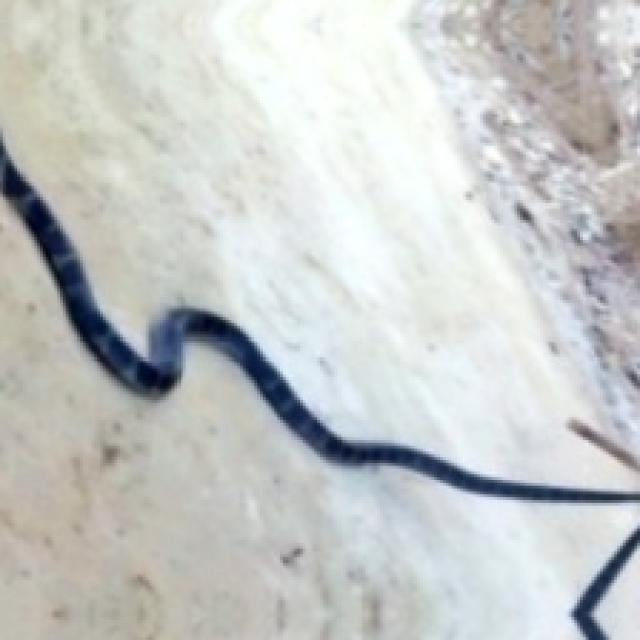king cobra: (0, 0, 637, 486), (0, 197, 637, 637)
